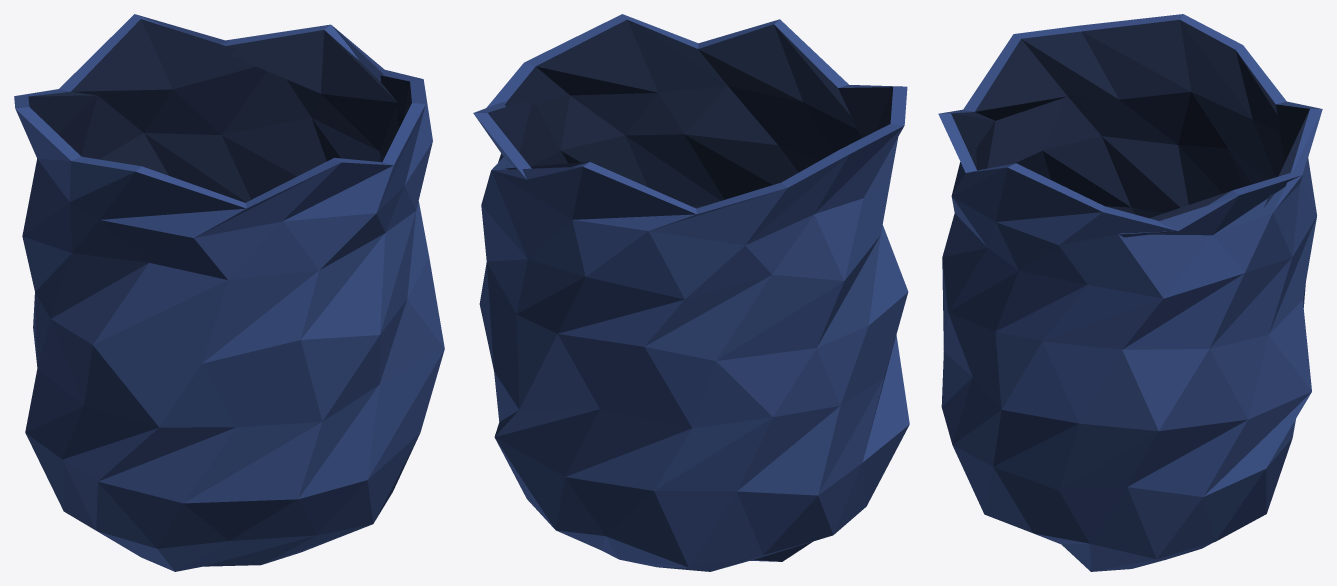
Rendered from BolsaAbierta.fbx.
3 renders of one model, left to right at view 1: azimuth 30°, elevation 25°; view 2: azimuth 150°, elevation 25°; view 3: azimuth 270°, elevation 25°, orthographic. The views are drawn at different scales.
Parts seen in each view (by area): view 1: Cuerpo, Interior, Boca; view 2: Cuerpo, Interior, Boca; view 3: Cuerpo, Interior, Boca.
Boxes of the visible parts, <box> form: Cuerpo: <box>15,14,444,571</box>; Interior: <box>28,19,411,202</box>; Boca: <box>14,14,425,208</box>; Cuerpo: <box>474,101,909,571</box>; Interior: <box>488,19,893,208</box>; Boca: <box>473,14,907,214</box>; Cuerpo: <box>941,110,1322,571</box>; Interior: <box>951,19,1309,220</box>; Boca: <box>938,14,1322,230</box>.
Size of the model in its own units: 2.22 by 2.62 by 2.03.
